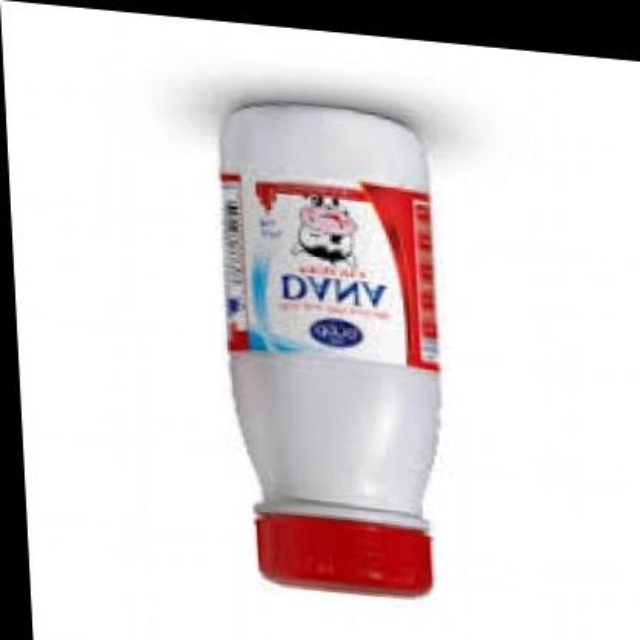trash: (222, 105, 438, 594)
